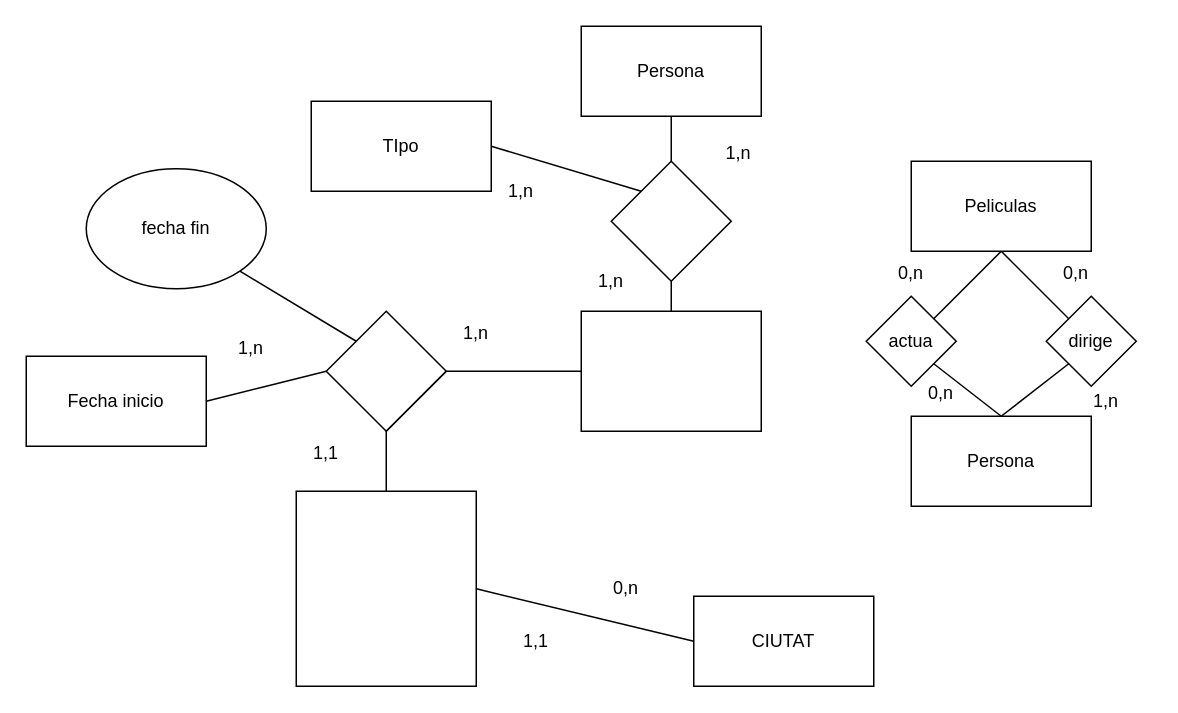
Some shapes in this 1178 by 713 pixel diagram are drawn without their labels. Here are the shapes that lost their labels. From the top down, the centre of each, then its label:
At point 670,220: "participa".
At point 385,370: "alquilar".
At point 670,370: "PELICULAS titulo actores director identificador".
At point 385,588: "SOCIOS id nombre apellido1 apellido2 telefono direccion DNI".
